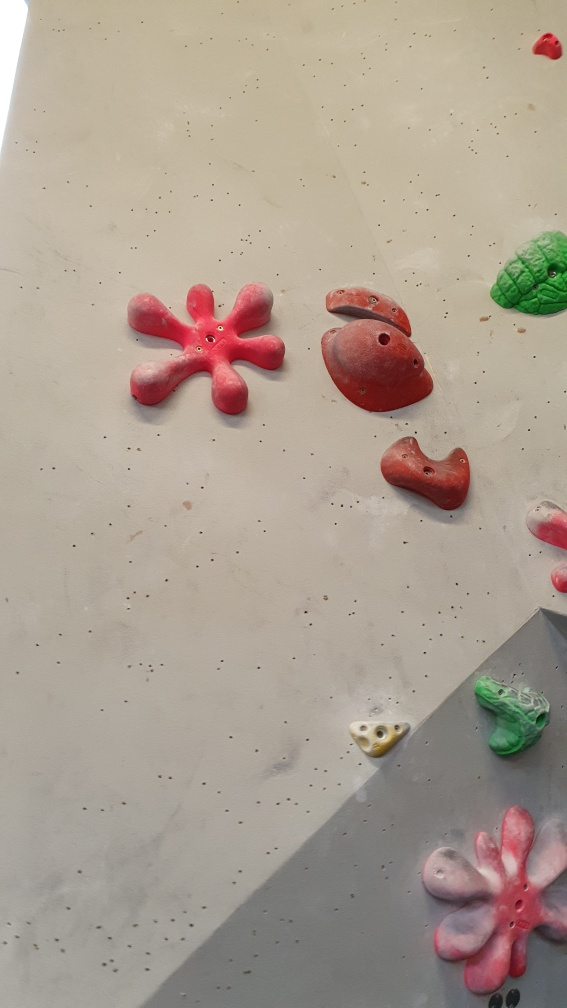Jug: (487, 226, 567, 318)
Octopus Pinch: (426, 799, 567, 995), (121, 276, 287, 421)
Sloper: (334, 318, 436, 412)
